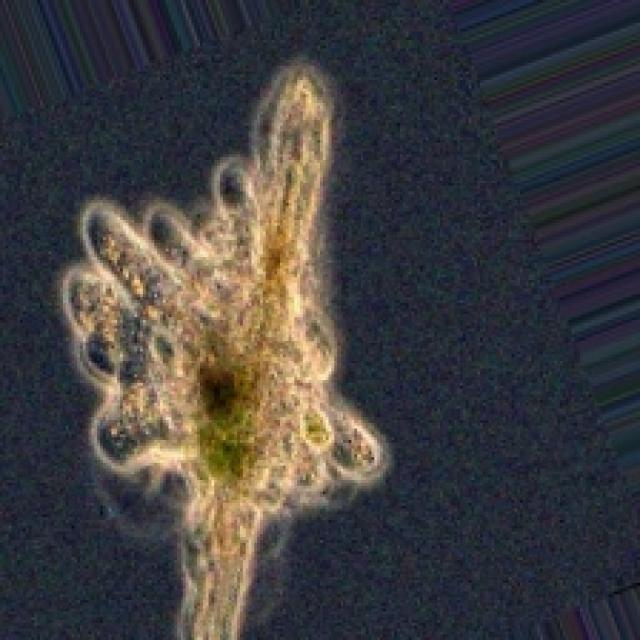Amoeba: (54, 54, 394, 637)
